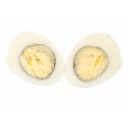begg: (70, 32, 123, 86), (12, 32, 64, 85)
